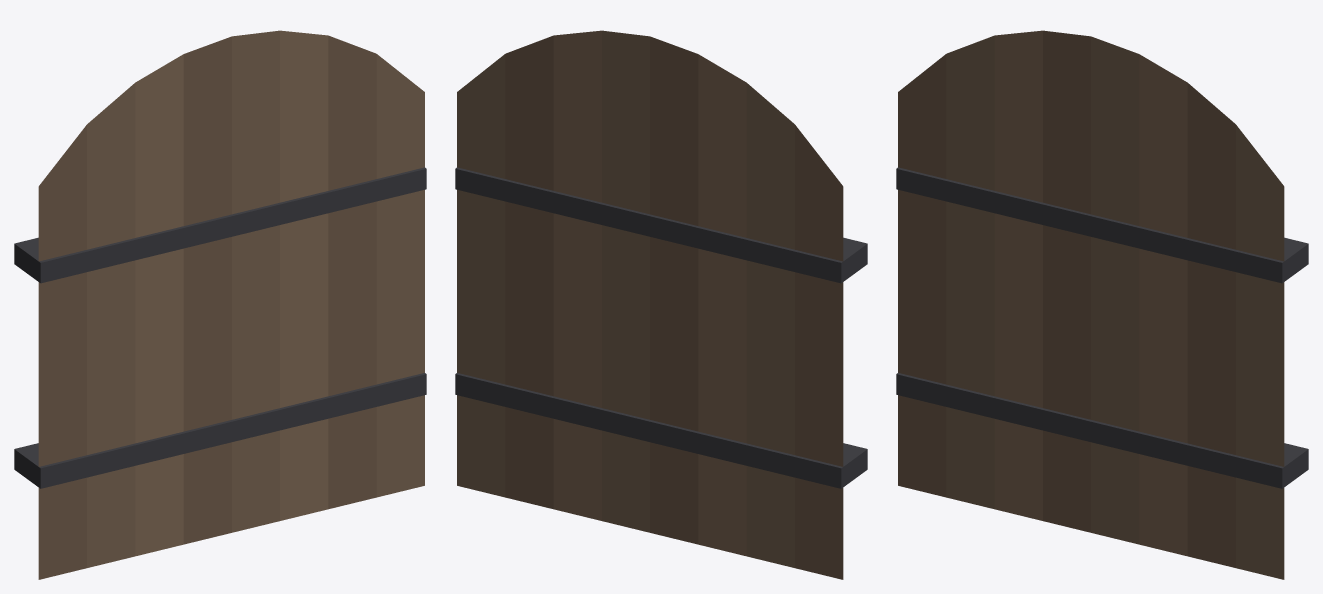
The model's file is porta_porao.glb.
3 renders of one model, left to right at view 1: azimuth 30°, elevation 25°; view 2: azimuth 150°, elevation 25°; view 3: azimuth 330°, elevation 25°, orthographic.
Parts seen in each view (by area): view 1: Folha_0; view 2: Folha_0; view 3: Folha_0.
Boxes of the visible parts, box(x1,y1,x2,y2) form: Folha_0: box(14, 30, 426, 579); Folha_0: box(455, 30, 867, 579); Folha_0: box(896, 30, 1308, 579).
Size of the model in its own units: 2.36 by 2.9 by 0.28.
